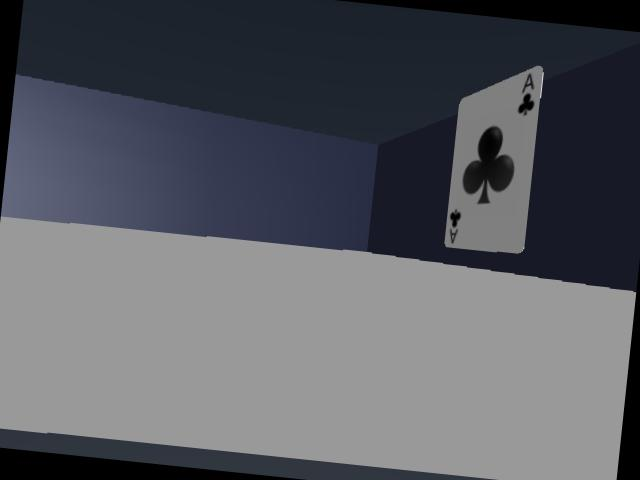club: (444, 66, 542, 253)
